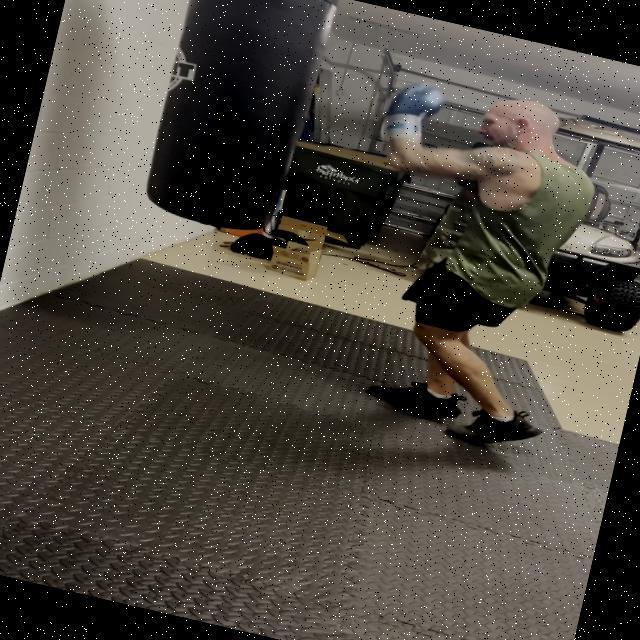bag: (115, 0, 347, 247)
uppercut: (362, 48, 626, 226)
